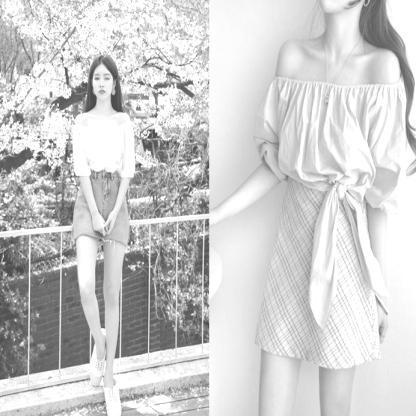jacket: (259, 176, 383, 374), (256, 72, 408, 216), (71, 166, 133, 247), (71, 121, 135, 178)
jean: (61, 47, 142, 416)
